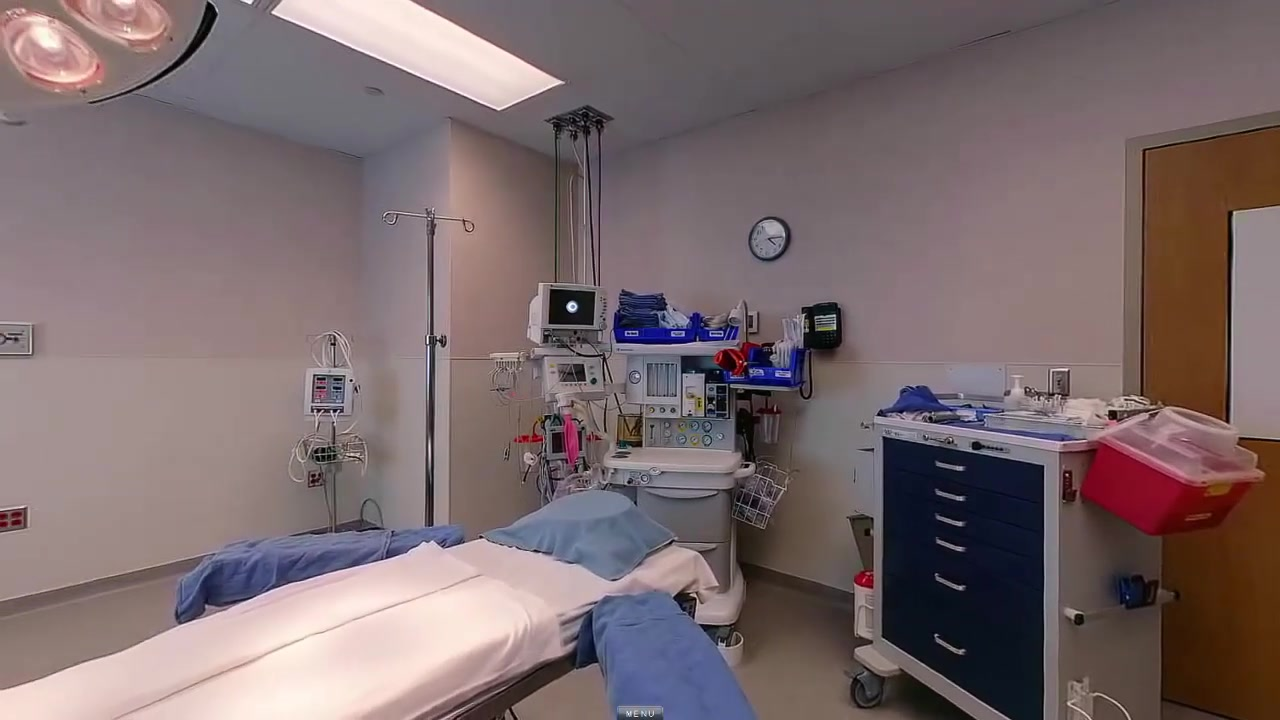bedside_monitor: (526, 281, 607, 347)
handle: (645, 485, 719, 500), (933, 634, 966, 655), (934, 573, 968, 592), (935, 536, 966, 553), (674, 541, 719, 552), (936, 512, 967, 527), (935, 489, 967, 501), (935, 460, 966, 471), (737, 460, 756, 476)
iv_pole: (382, 208, 474, 528), (303, 328, 357, 534)
medical_drawer: (852, 397, 1180, 720)
operating_bed: (2, 491, 760, 720)
telephone: (799, 301, 843, 354)
